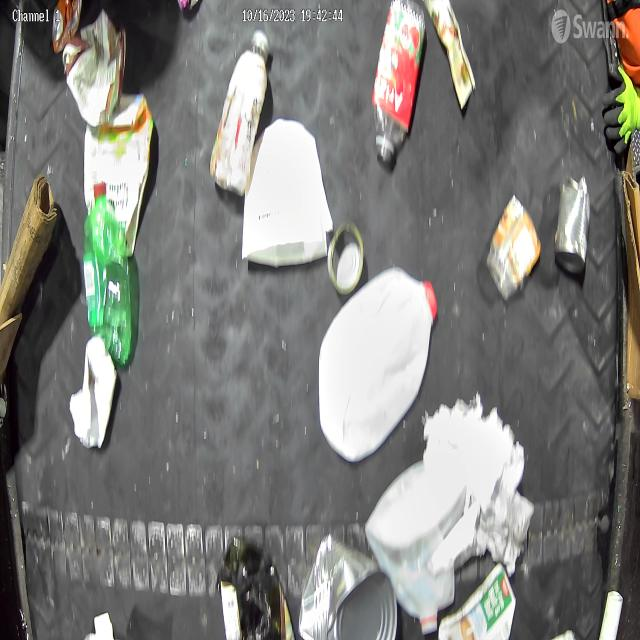can: (298, 531, 398, 640), (555, 172, 592, 276), (328, 218, 364, 295)
milk_jug: (318, 266, 437, 464), (366, 456, 466, 635)
plastic_bottle: (82, 176, 131, 368)
